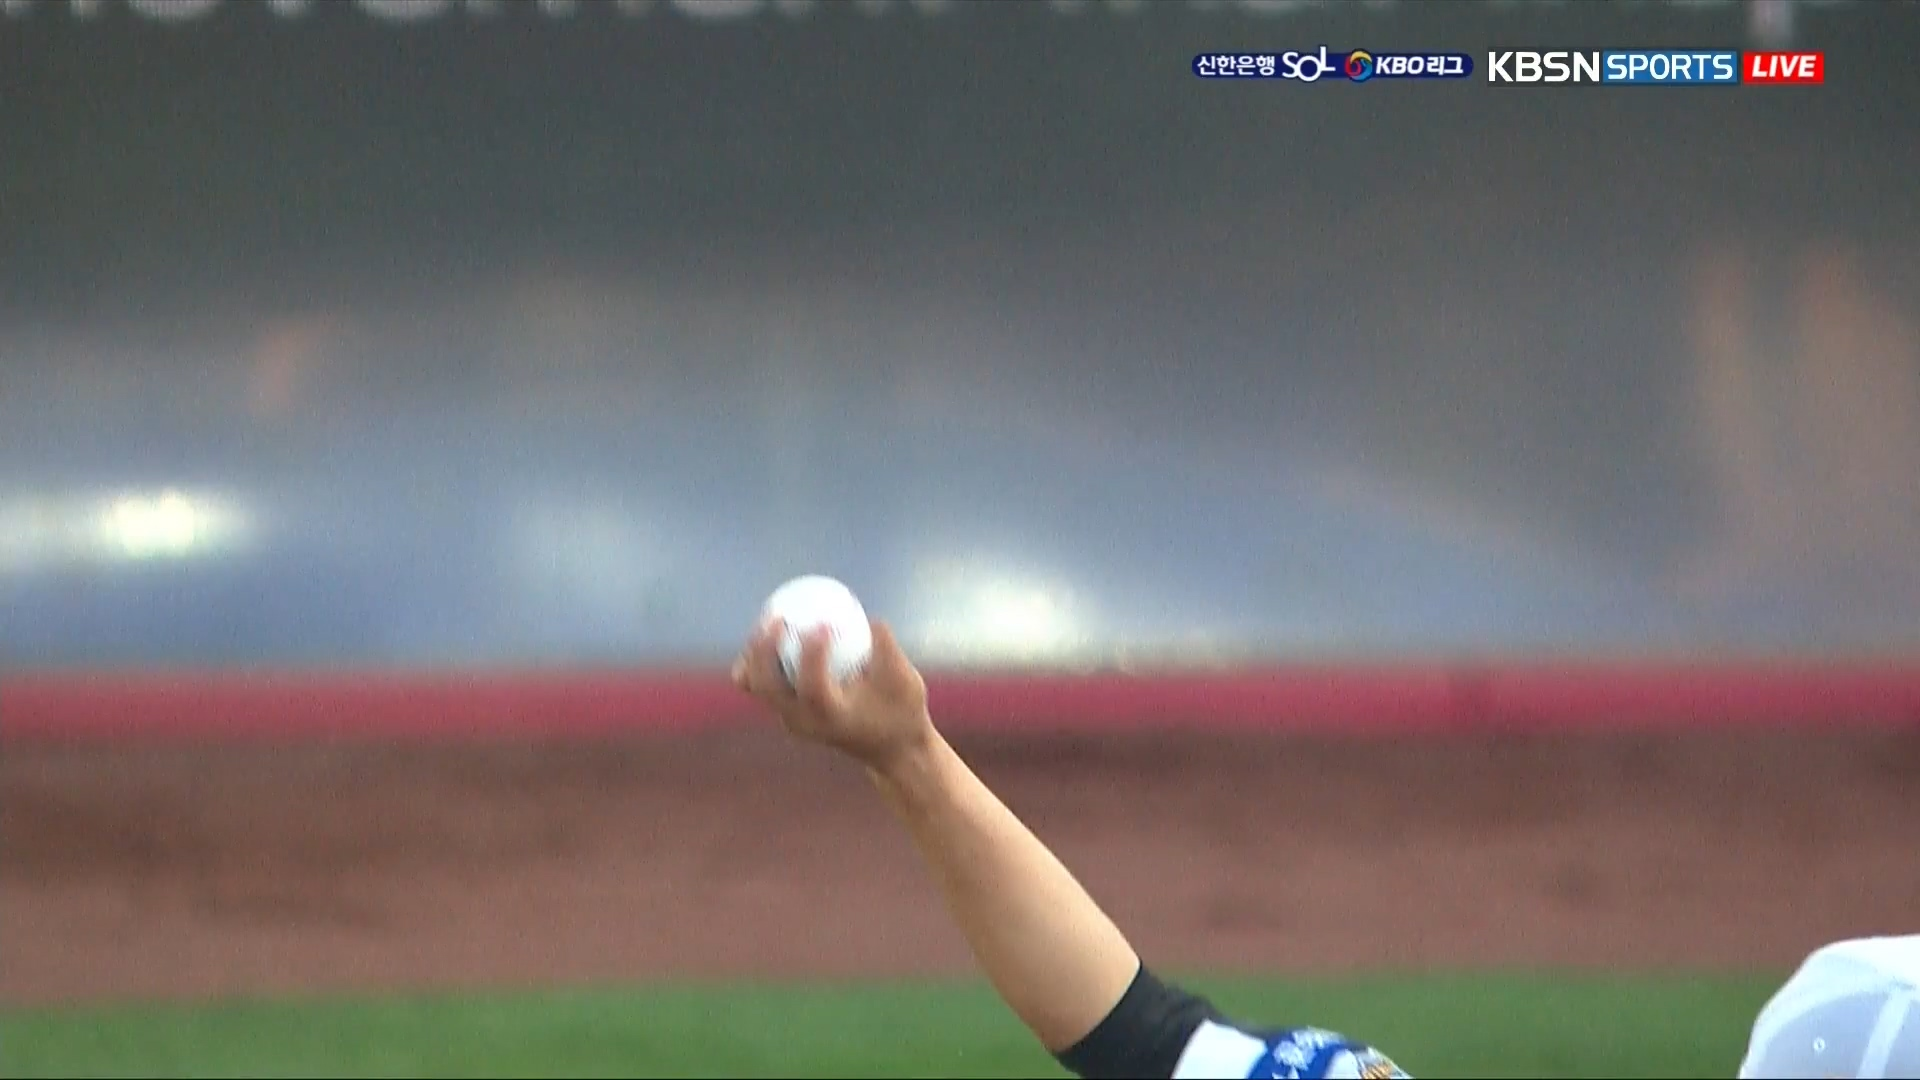zoomin_hand: (719, 562, 1192, 1072)
